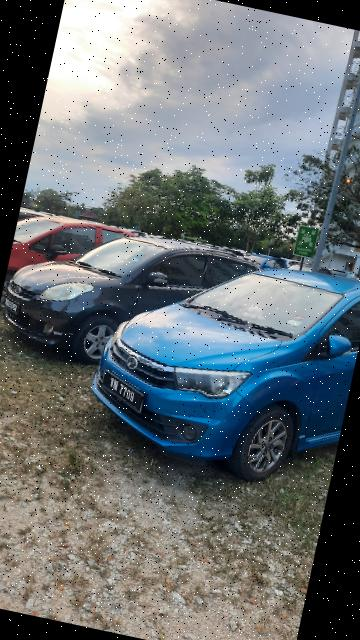License_Plate: (97, 368, 154, 419), (1, 292, 22, 317)
car: (80, 233, 360, 502), (1, 214, 268, 397)
